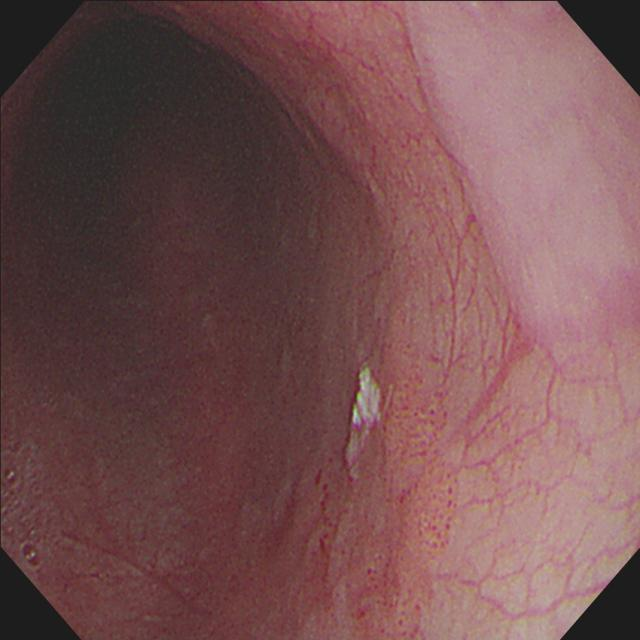A: (404, 2, 640, 365), (315, 410, 450, 640)
J: (345, 361, 392, 478)
T: (3, 451, 58, 574)
